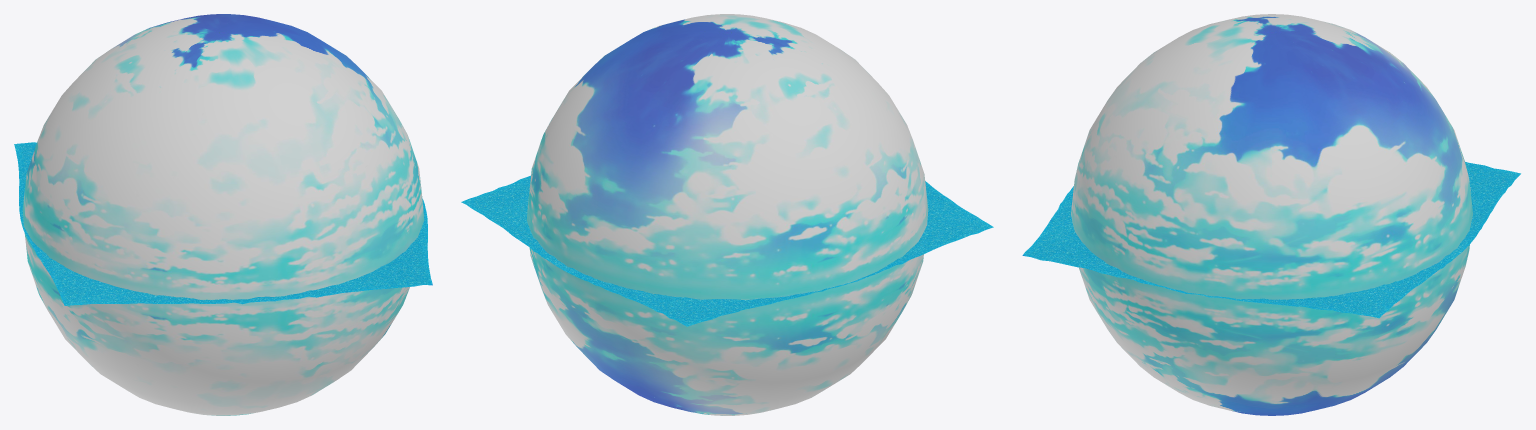
Rendered from Dayscene.glb.
The picture shows the model from 3 angles, left to right: view 1: azimuth 30°, elevation 25°; view 2: azimuth 150°, elevation 25°; view 3: azimuth 270°, elevation 25°; orthographic projection.
Parts seen in each view (by area): view 1: Sky, Ocean_Baked; view 2: Sky, Ocean_Baked; view 3: Sky, Ocean_Baked.
Part boxes in pixels (<box>): Sky: <box>22,14,424,415</box>; Ocean_Baked: <box>14,142,432,305</box>; Sky: <box>526,14,928,415</box>; Ocean_Baked: <box>461,175,993,326</box>; Sky: <box>1071,14,1472,415</box>; Ocean_Baked: <box>1022,162,1520,318</box>.
Size of the model in its own units: 229 by 187 by 233.
2 materials, 2 textured.
